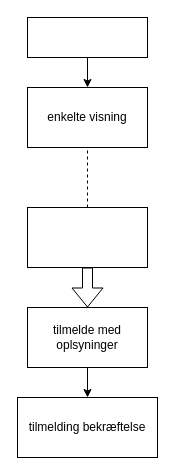
Some shapes in this 175 by 475 pixel diagram are drawn without their labels. The shapes that lost their labels are listed below. From the top down, each one's centre as x and y in pixels, then its label:
point 87,37: alle praktik
point 87,237: tilmelding
